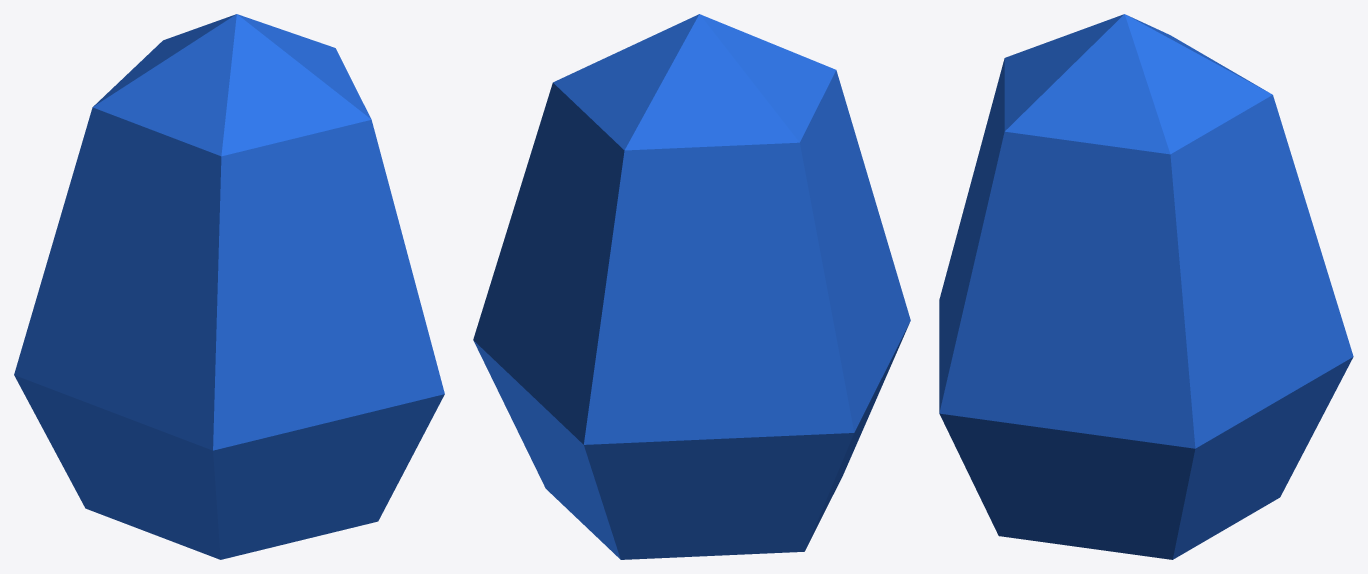
Rendered from LevelExitCanonCrystal.glb.
3 views of the same model, side by side, from view 1: azimuth 30°, elevation 25°; view 2: azimuth 150°, elevation 25°; view 3: azimuth 270°, elevation 25° (orthographic).
Parts seen in each view (by area): view 1: Crystal; view 2: Crystal; view 3: Crystal.
Boxes of the visible parts, x1,y1,x2,y2 form: Crystal: (14, 14, 444, 559); Crystal: (473, 14, 910, 559); Crystal: (939, 14, 1353, 559).
Size of the model in its own units: 4.2 by 5.14 by 3.99.
